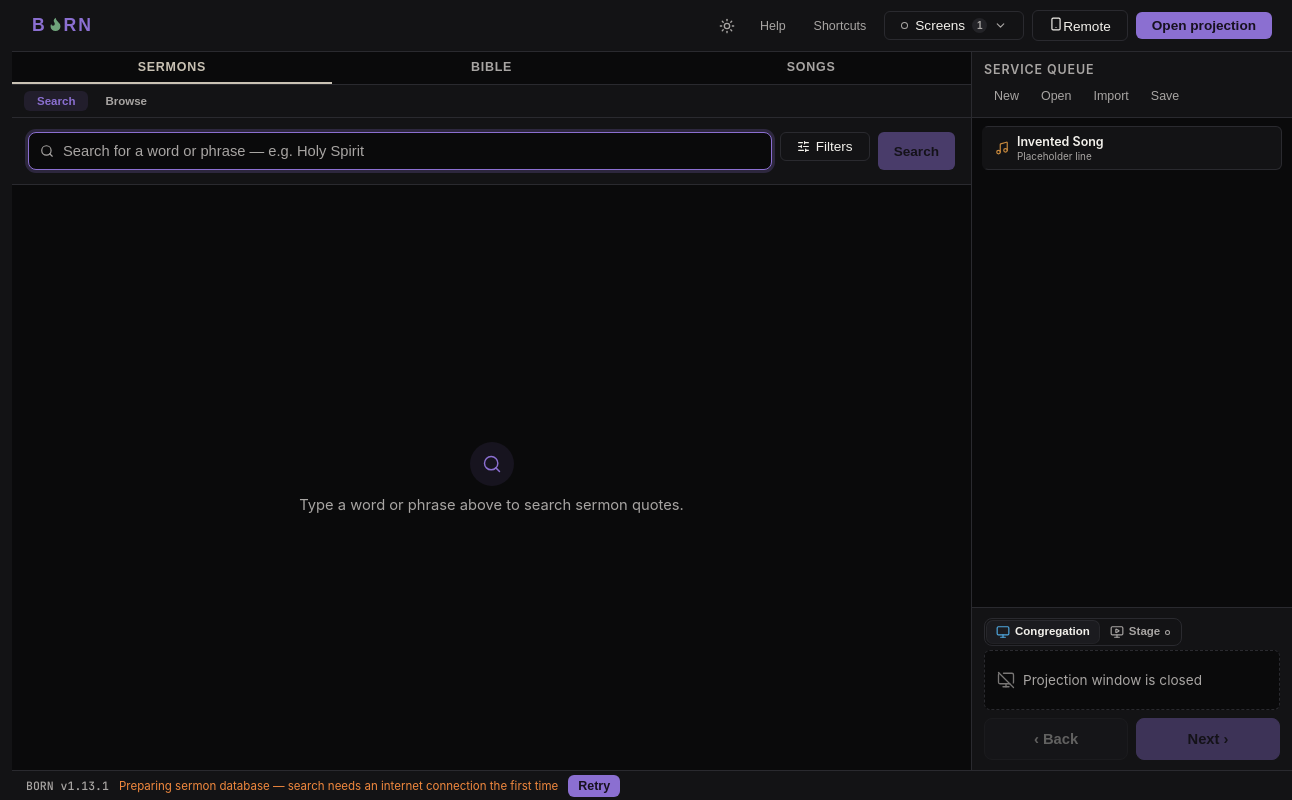
a service that could not be saved › says so
What coordinates should you click on to do the following:
click the button "Save"
I would click on:
 (1165, 96)
Its box is top-left (1141, 85), bottom-right (1189, 107).
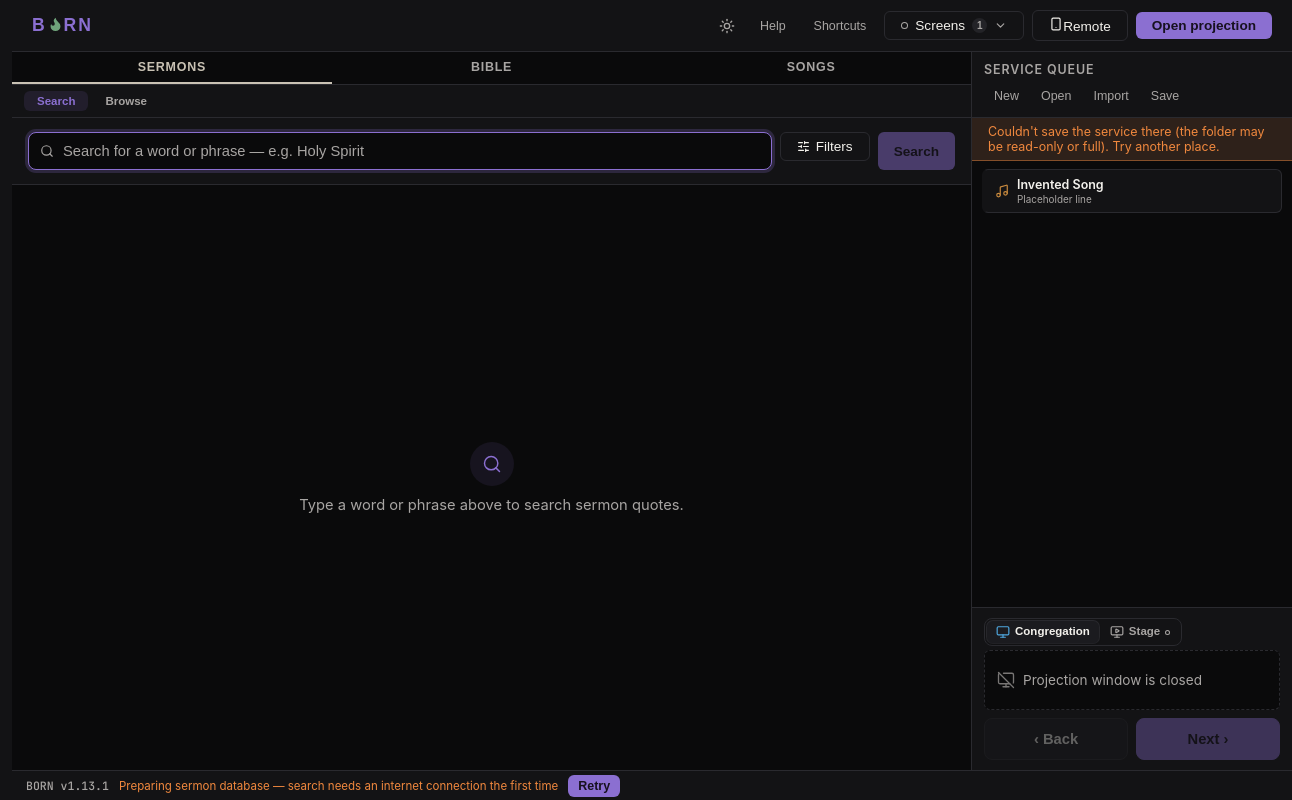
Now the text "couldn.t save" is shown, box top-left (988, 124), bottom-right (1264, 154)
